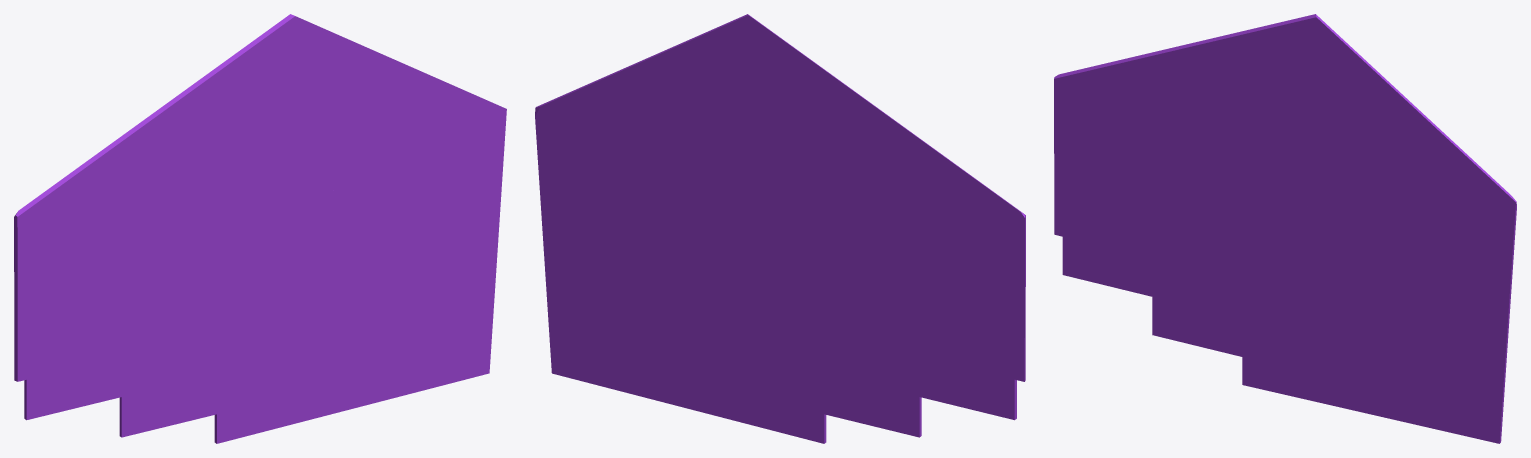
File: Glass_78_13_chunks.fbx
3 renders of one model, left to right at view 1: azimuth 30°, elevation 25°; view 2: azimuth 150°, elevation 25°; view 3: azimuth 330°, elevation 25°, orthographic. The views are drawn at different scales.
Parts seen in each view (by area): view 1: Glass_78_13_0, Glass_78_13_1, Glass_78_13_5, Glass_78_13_4, Glass_78_13_3; view 2: Glass_78_13_1, Glass_78_13_0, Glass_78_13_5, Glass_78_13_4, Glass_78_13_3; view 3: Glass_78_13_1, Glass_78_13_0, Glass_78_13_4, Glass_78_13_5, Glass_78_13_3.
Boxes of the visible parts, bbox=[...] form: Glass_78_13_0: bbox=[14, 132, 263, 443]; Glass_78_13_1: bbox=[234, 104, 506, 439]; Glass_78_13_5: bbox=[126, 80, 306, 224]; Glass_78_13_4: bbox=[302, 49, 496, 204]; Glass_78_13_3: bbox=[199, 14, 371, 108]; Glass_78_13_1: bbox=[535, 103, 807, 439]; Glass_78_13_0: bbox=[776, 134, 1025, 443]; Glass_78_13_5: bbox=[733, 80, 912, 225]; Glass_78_13_4: bbox=[546, 48, 738, 202]; Glass_78_13_3: bbox=[668, 14, 839, 116]; Glass_78_13_1: bbox=[1259, 191, 1516, 443]; Glass_78_13_0: bbox=[1054, 50, 1286, 388]; Glass_78_13_4: bbox=[1322, 84, 1506, 200]; Glass_78_13_5: bbox=[1160, 34, 1327, 200]; Glass_78_13_3: bbox=[1229, 14, 1390, 110].
Bounding box in the file's own units: 696 × 556 × 5.32.
